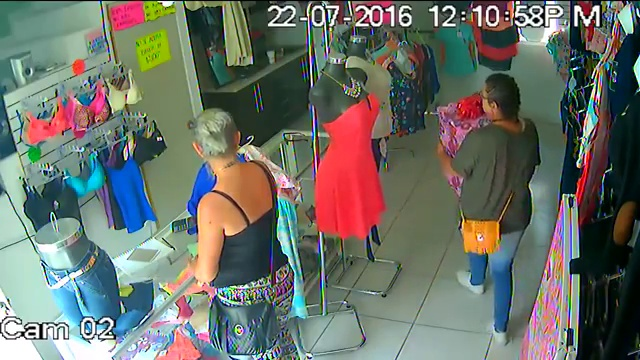face: (479, 83, 506, 116)
